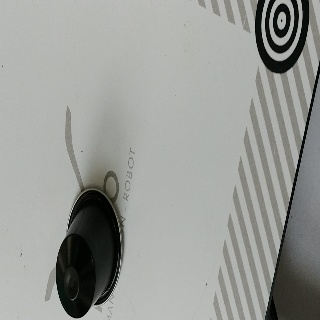capsule_10: (55, 187, 123, 320)
